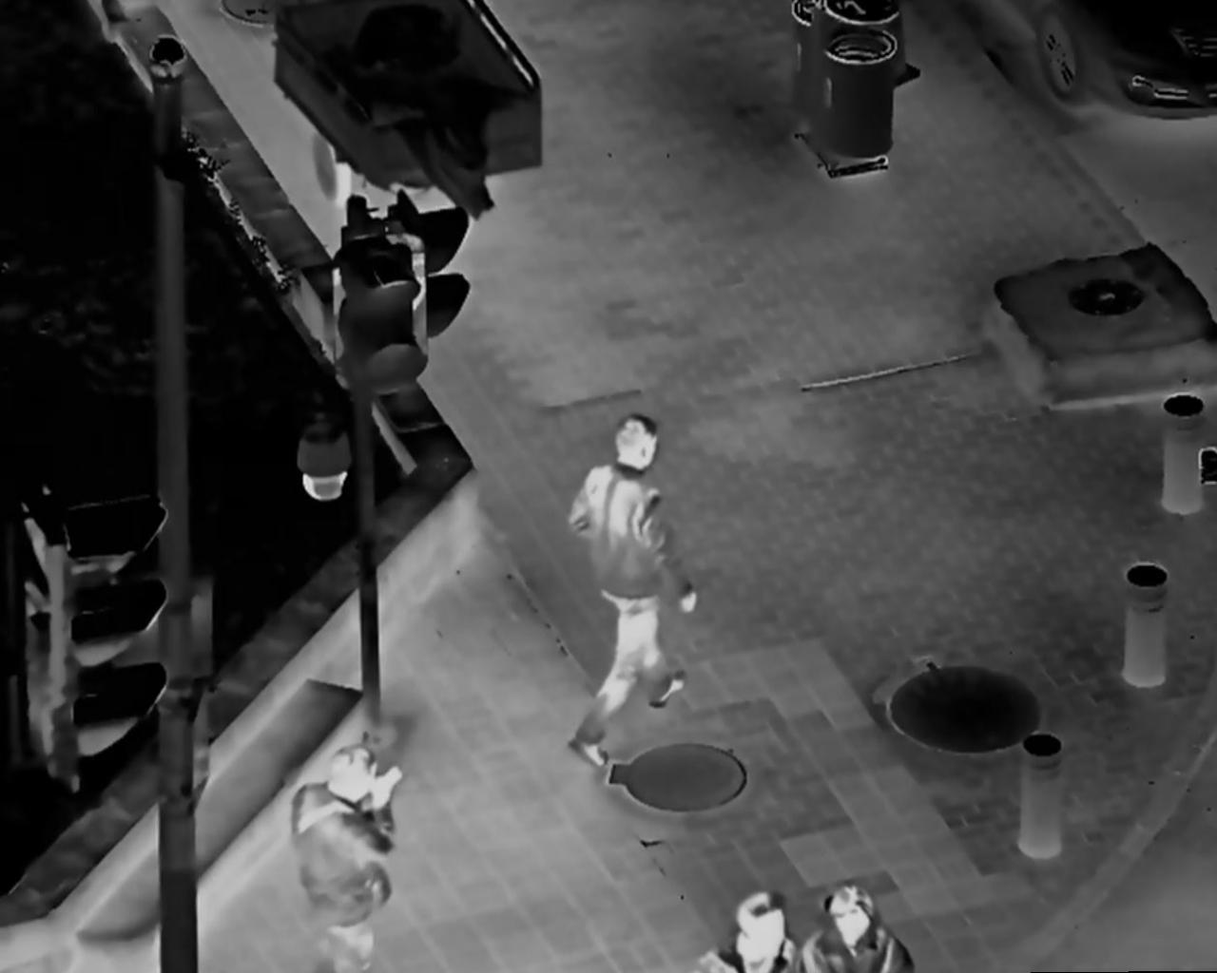person: (555, 405, 703, 780), (277, 745, 417, 973), (794, 868, 912, 973), (688, 886, 798, 973)
